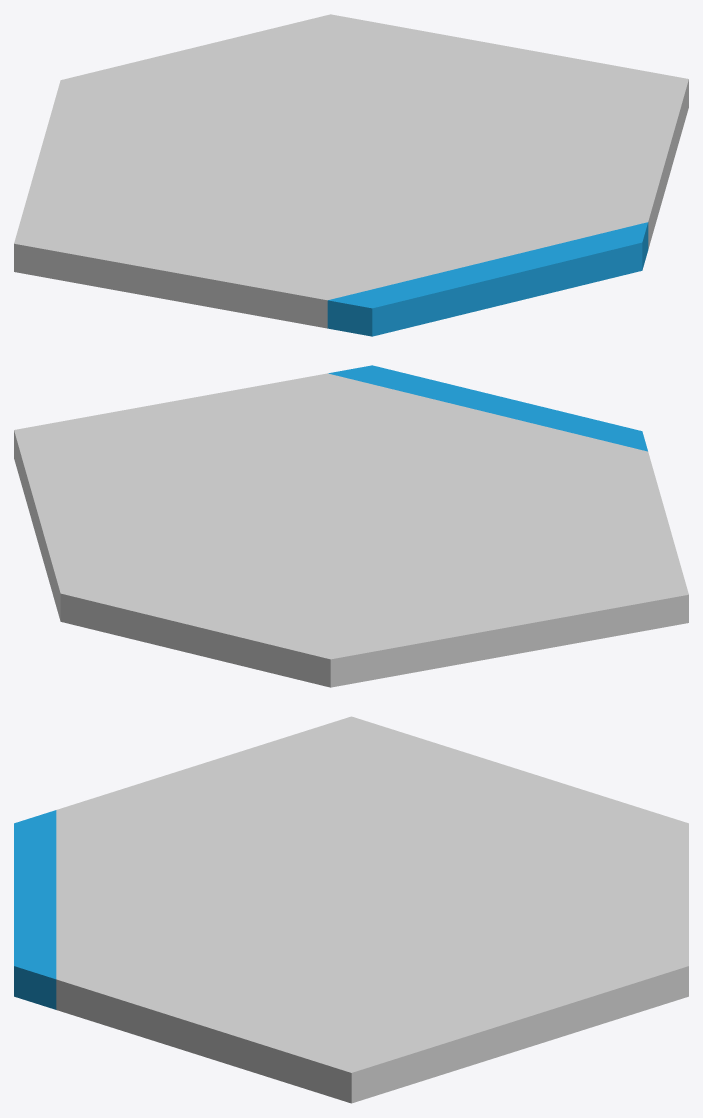
The picture shows the model from 3 angles, top to bottom: view 1: azimuth 30°, elevation 25°; view 2: azimuth 150°, elevation 25°; view 3: azimuth 270°, elevation 25°; orthographic projection. The views are drawn at different scales.
Parts seen in each view (by area): view 1: Hexagon, S; view 2: Hexagon, S; view 3: Hexagon, S.
Part boxes in pixels (bbox=[...]): Hexagon: bbox=[14, 14, 688, 328]; S: bbox=[327, 222, 648, 336]; Hexagon: bbox=[14, 373, 688, 687]; S: bbox=[328, 365, 647, 451]; Hexagon: bbox=[56, 716, 688, 1103]; S: bbox=[14, 810, 56, 1009].
Bounding box in the file's own units: 5 × 4 × 0.2.
